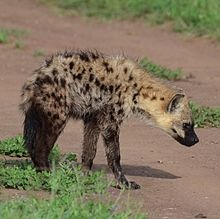hyna: (14, 44, 201, 192)
